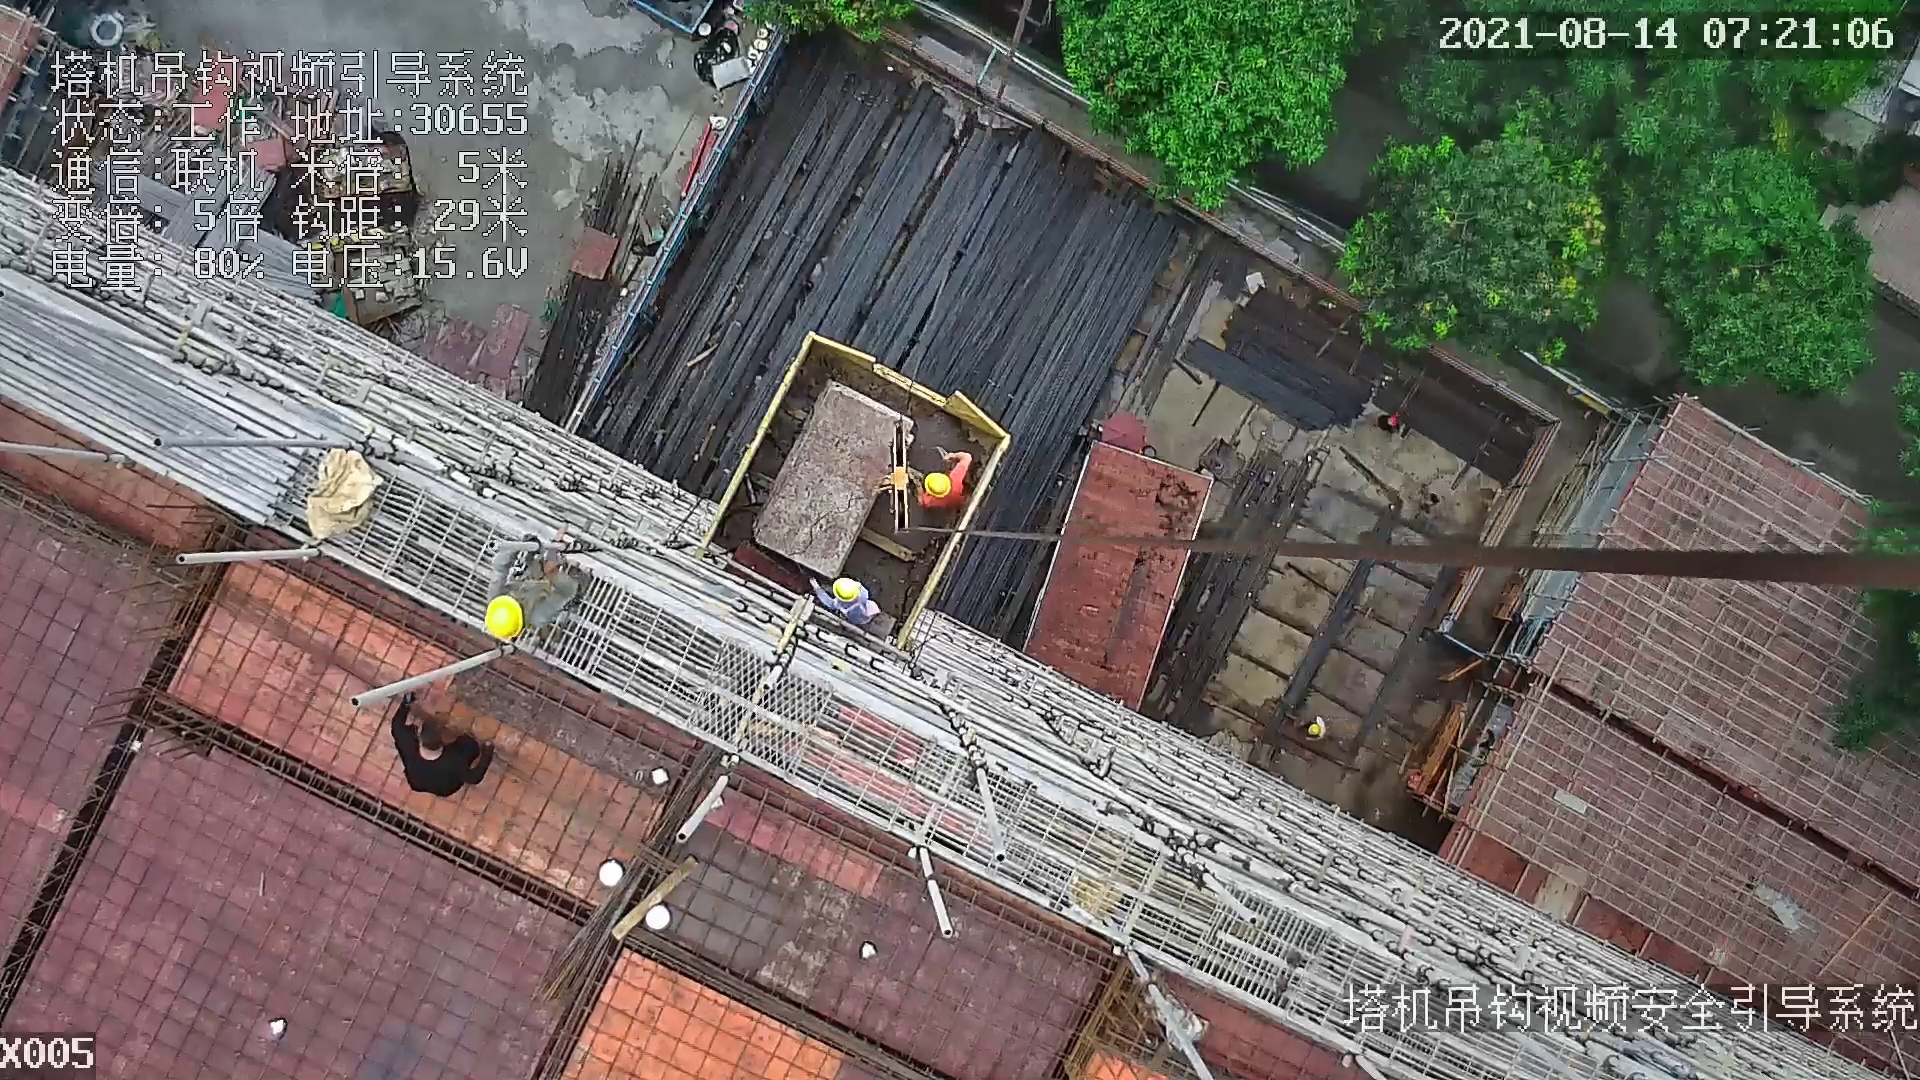helmet: (480, 593, 527, 645), (830, 574, 862, 604), (924, 471, 952, 500)
hook: (881, 409, 923, 531)
person: (377, 685, 492, 800), (476, 537, 590, 636), (806, 573, 878, 633)
